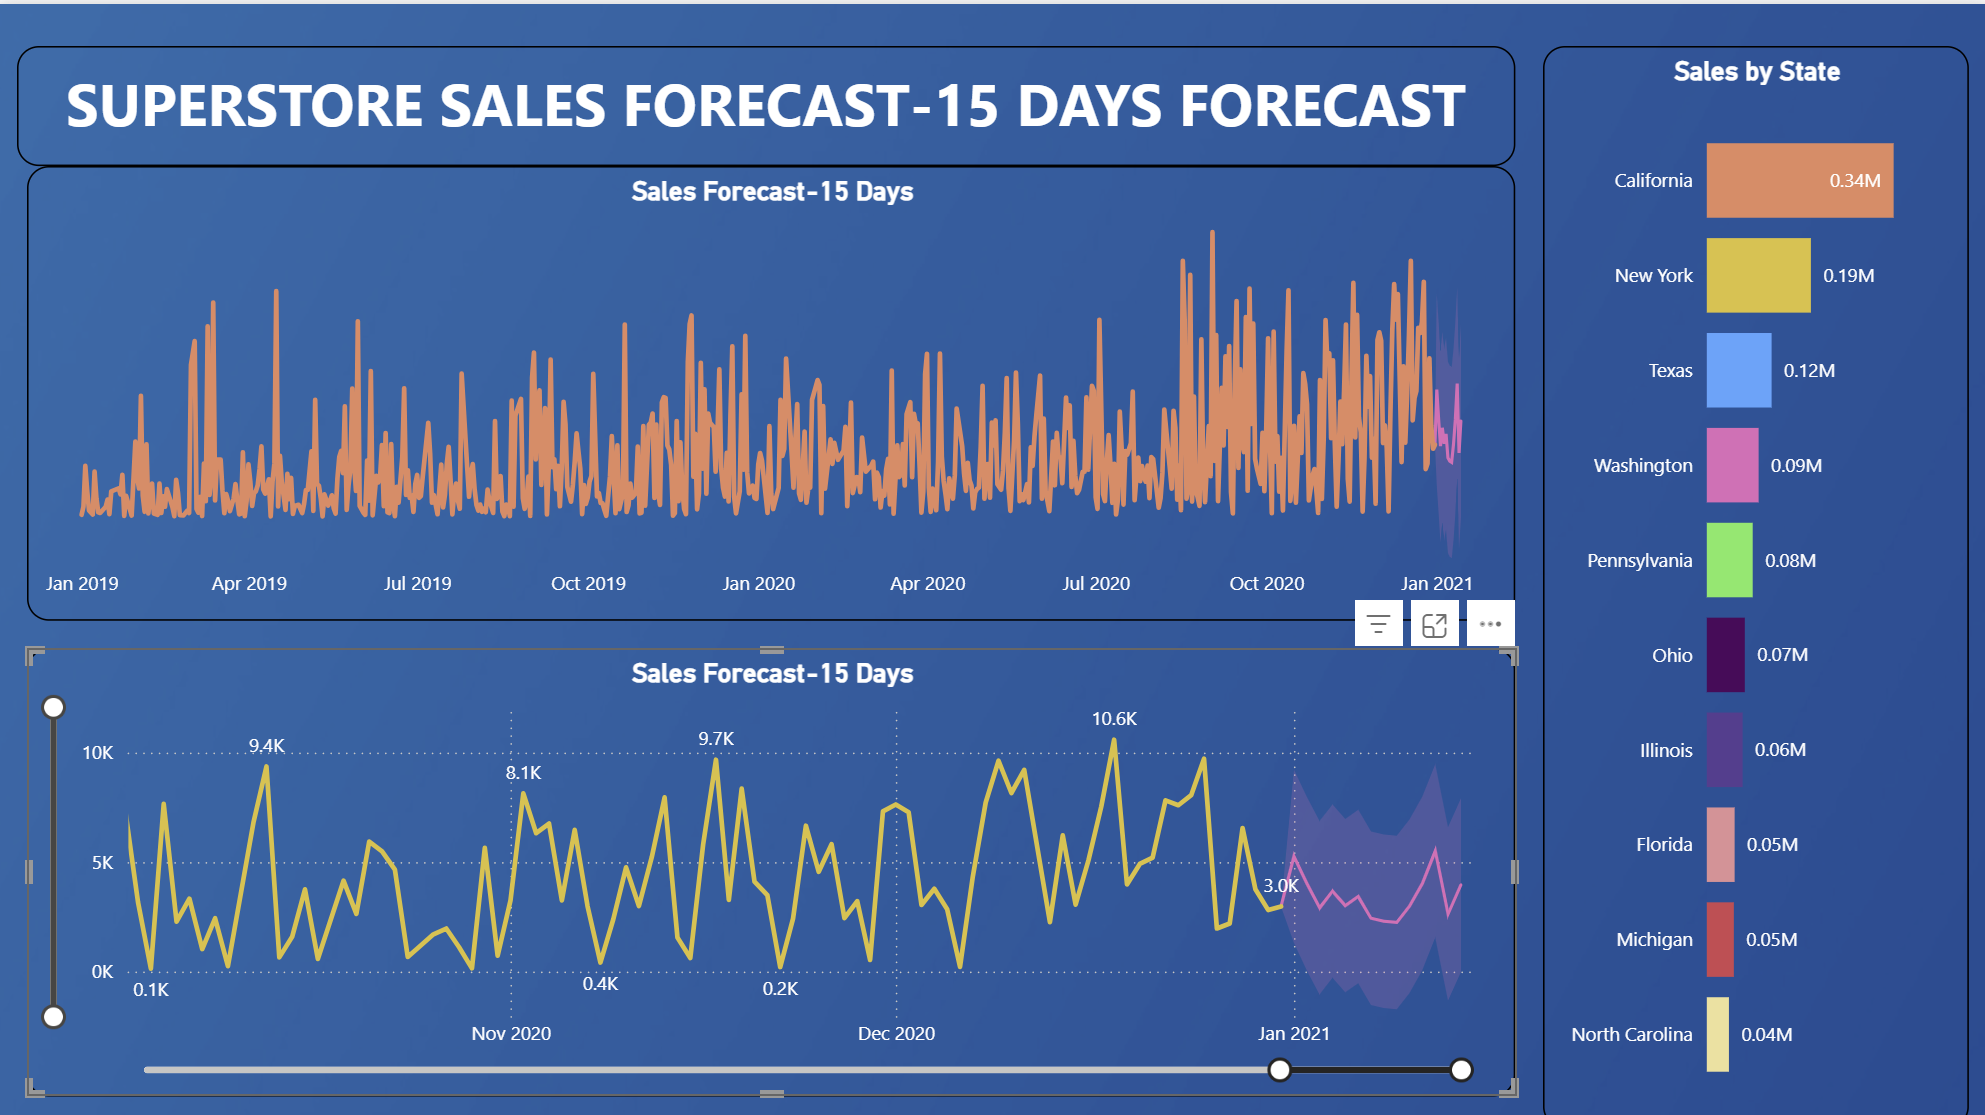

The dashboard page shown, as its layout file describes it:
{"tool":"powerbi","page":{"name":"Sales Forcast","canvas":[1280,720],"ordinal":1},"visuals":[{"type":"lineChart","title":"Sales Forecast-15 Days","fields":{"Y":["Sum(Sheet1.Sales)"],"Category":["Sheet1.Order Date"]},"box":[20.8,104.2,954.2,291.7],"z":0},{"type":"lineChart","title":"Sales Forecast-15 Days","fields":{"Y":["Sum(Sheet1.Sales)"],"Category":["Sheet1.Order Date"]},"box":[20.8,412.5,954.2,287.5],"z":1000},{"type":"barChart","title":" Sales by State","fields":{"Category":["Sheet1.State"],"Y":["Sum(Sheet1.Sales)"]},"box":[991.7,27.1,272.9,693.8],"z":2000},{"type":"textbox","box":[14.6,27.1,960.4,77.1],"z":3000}]}

Visuals, with their boxes in screenshot pixels (x1, y1, x2, y2), scaled from the page's 1280x720 canvas onto the 1985x1115 screenshot:
"Sales Forecast-15 Days" lineChart: select_region(32, 161, 1512, 613)
"Sales Forecast-15 Days" lineChart: select_region(32, 639, 1512, 1084)
" Sales by State" barChart: select_region(1538, 42, 1961, 1114)
textbox: select_region(23, 42, 1512, 161)
